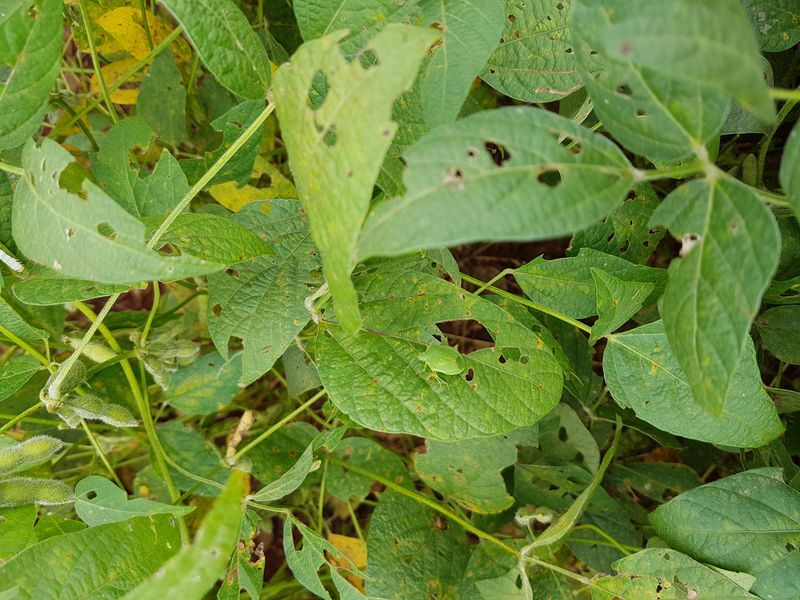Euschistus_heros_adulto: (427, 511, 454, 535)
Nezara_viridula_adulto: (400, 334, 471, 388)
